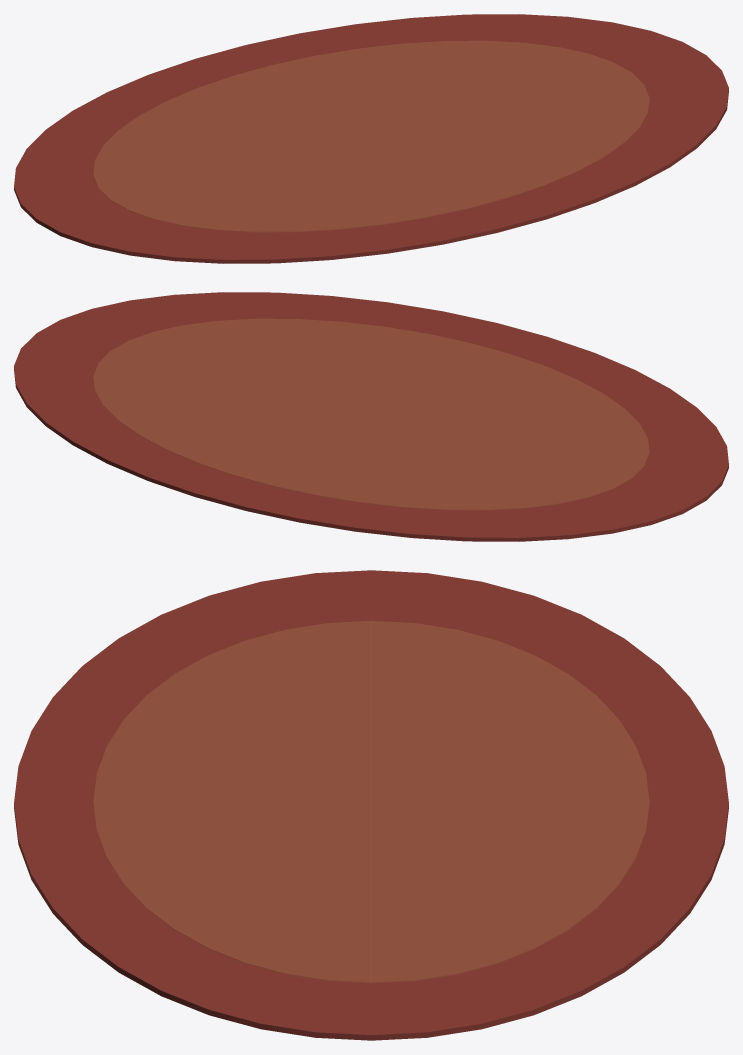
File: rug-ghost.glb
3 renders of one model, top to bottom at view 1: azimuth 30°, elevation 25°; view 2: azimuth 150°, elevation 25°; view 3: azimuth 270°, elevation 25°, orthographic. The views are drawn at different scales.
Bounding box in the file's own units: 1.8 × 0.012 × 1.17.
